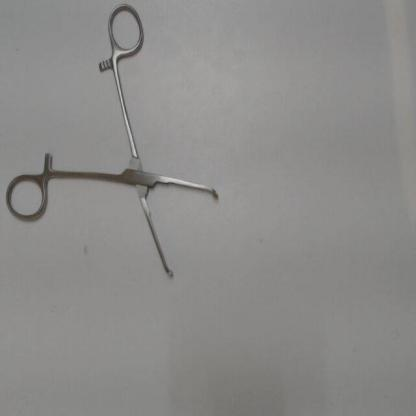Allis Tissue Forceps: (3, 1, 230, 291)
